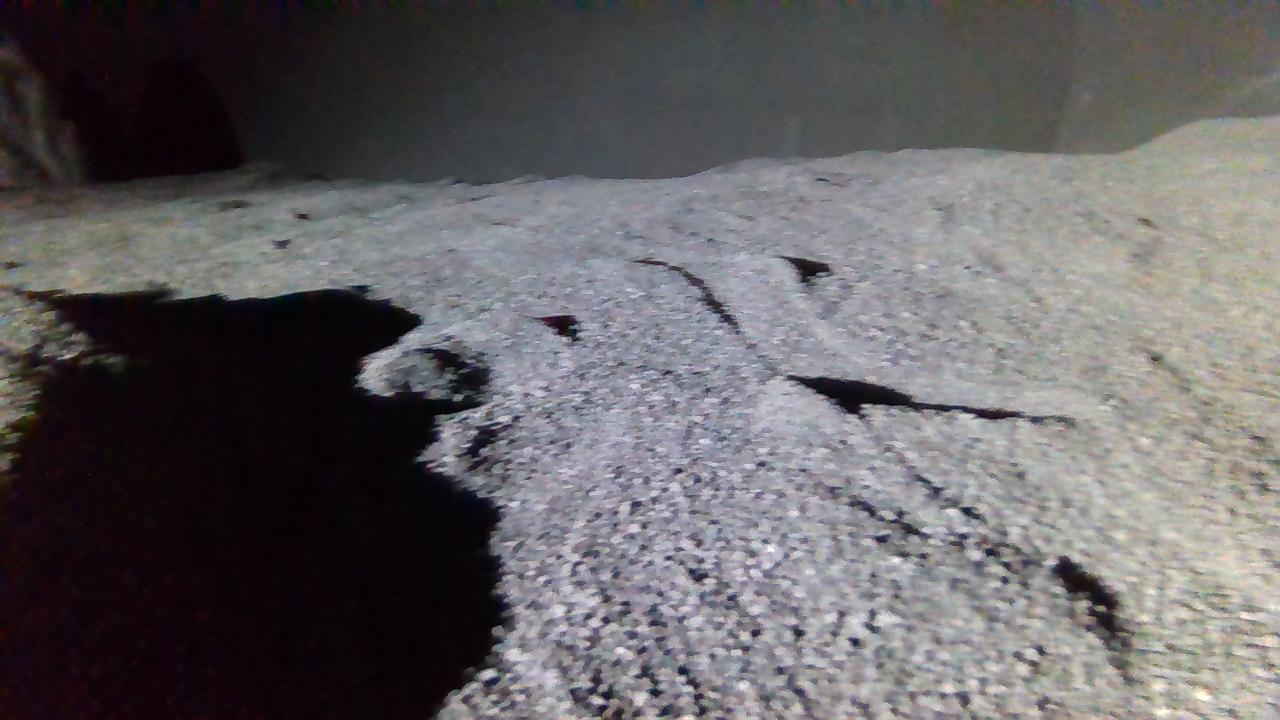rock: (0, 31, 91, 208)
